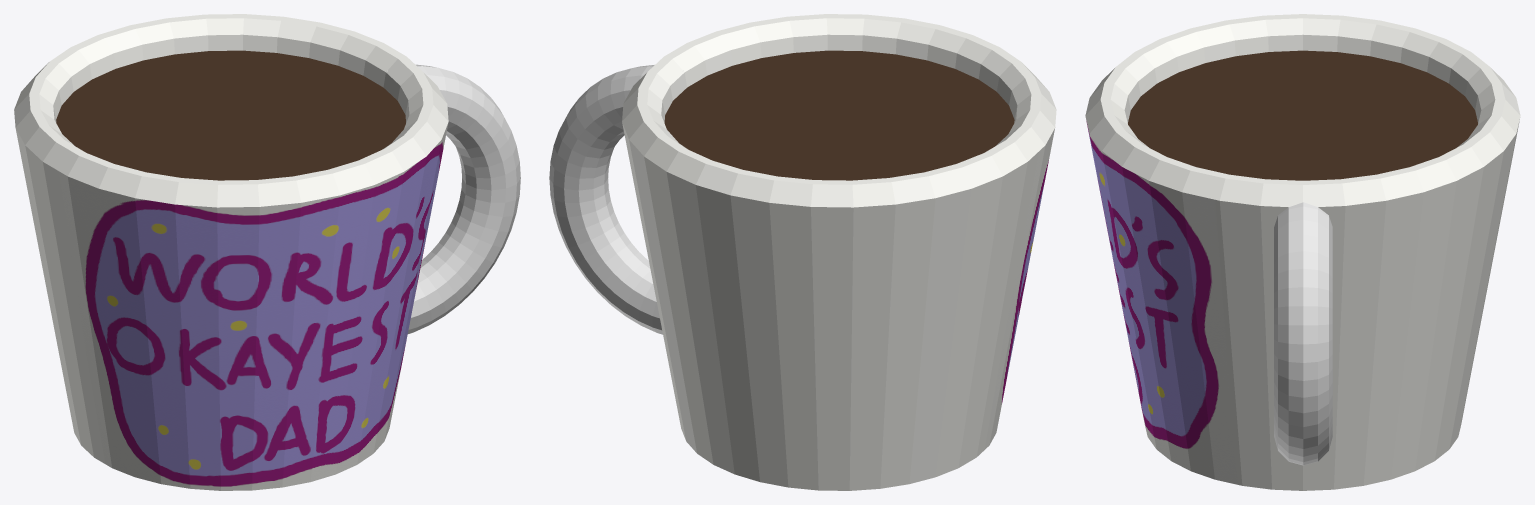
File: coffeeCupv2.fbx
The picture shows the model from 3 angles, left to right: view 1: azimuth 30°, elevation 25°; view 2: azimuth 150°, elevation 25°; view 3: azimuth 270°, elevation 25°; orthographic projection.
Visible parts, largest first — view 1: Torus, Cylinder.001, Torus.001; view 2: Torus, Cylinder.001, Torus.001; view 3: Torus, Cylinder.001, Torus.001.
Boxes of the visible parts, <box> form: Torus: <box>14,14,448,490</box>; Cylinder.001: <box>56,50,405,180</box>; Torus.001: <box>387,64,520,333</box>; Torus: <box>622,14,1056,490</box>; Cylinder.001: <box>664,50,1014,180</box>; Torus.001: <box>549,65,683,334</box>; Torus: <box>1085,14,1520,490</box>; Cylinder.001: <box>1128,50,1477,180</box>; Torus.001: <box>1274,202,1332,465</box>.
Bounding box in the file's own units: 119 × 77.66 × 94.39.
